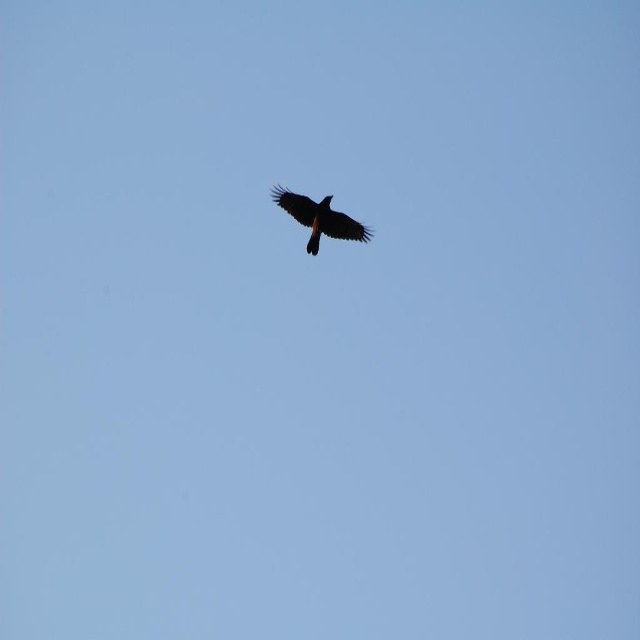Eagle: (269, 180, 374, 254)
